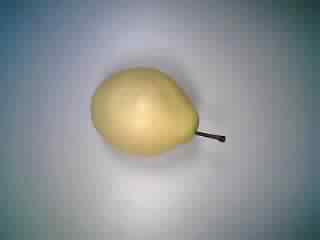pear: (81, 60, 229, 167)
